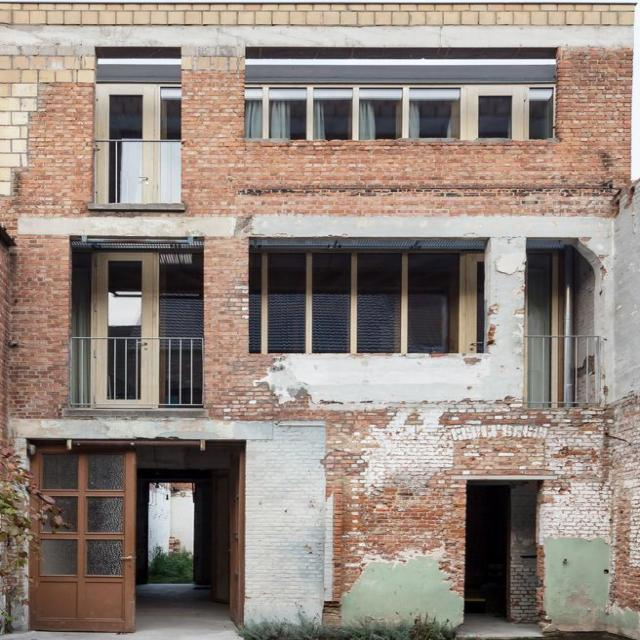Railing: (65, 338, 206, 408), (531, 335, 602, 408)
door: (26, 446, 137, 632), (93, 85, 161, 204), (88, 251, 160, 338)
windows: (248, 253, 468, 351), (246, 84, 556, 142)
